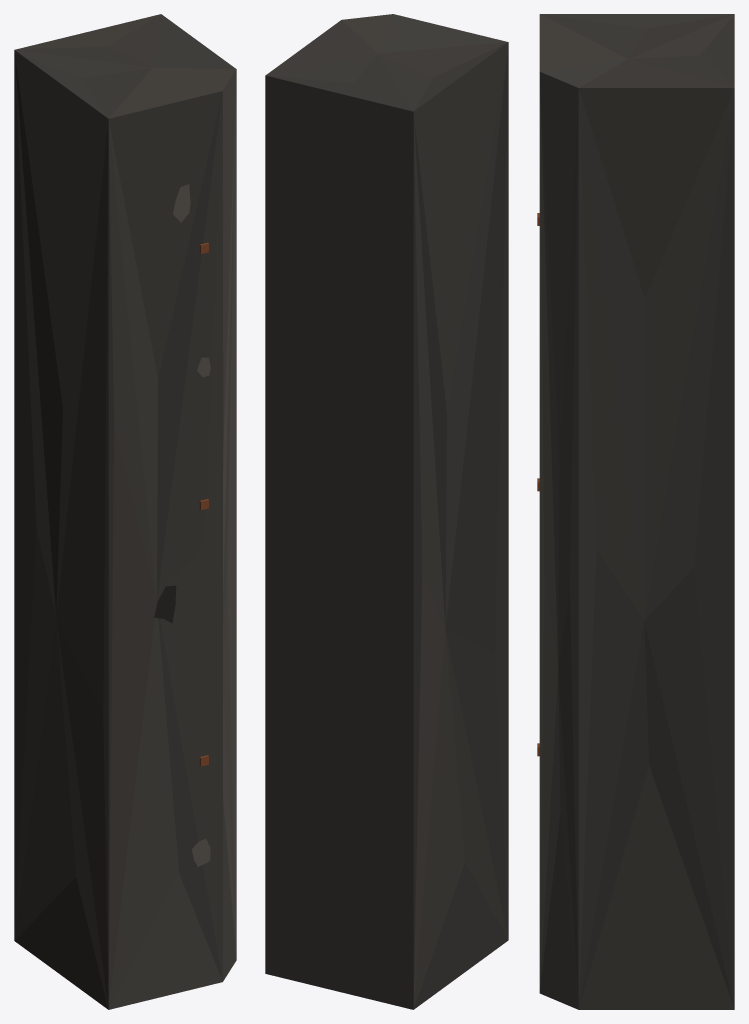
File: shelter_living_concrete_normal_right.glb
3 views of the same model, side by side, from view 1: azimuth 30°, elevation 25°; view 2: azimuth 150°, elevation 25°; view 3: azimuth 270°, elevation 25° (orthographic). The views are drawn at different scales.
Visible parts, largest first — view 1: shelter_living_concrete_normal_right; view 2: shelter_living_concrete_normal_right; view 3: shelter_living_concrete_normal_right.
Boxes of the visible parts, x1=… form: shelter_living_concrete_normal_right: x1=14, y1=14, x2=236, y2=1009; shelter_living_concrete_normal_right: x1=265, y1=14, x2=508, y2=1009; shelter_living_concrete_normal_right: x1=537, y1=14, x2=734, y2=1009.
Size of the model in its own units: 0.54 by 3.13 by 0.608.
Materials: 1 (1 with a texture image).
